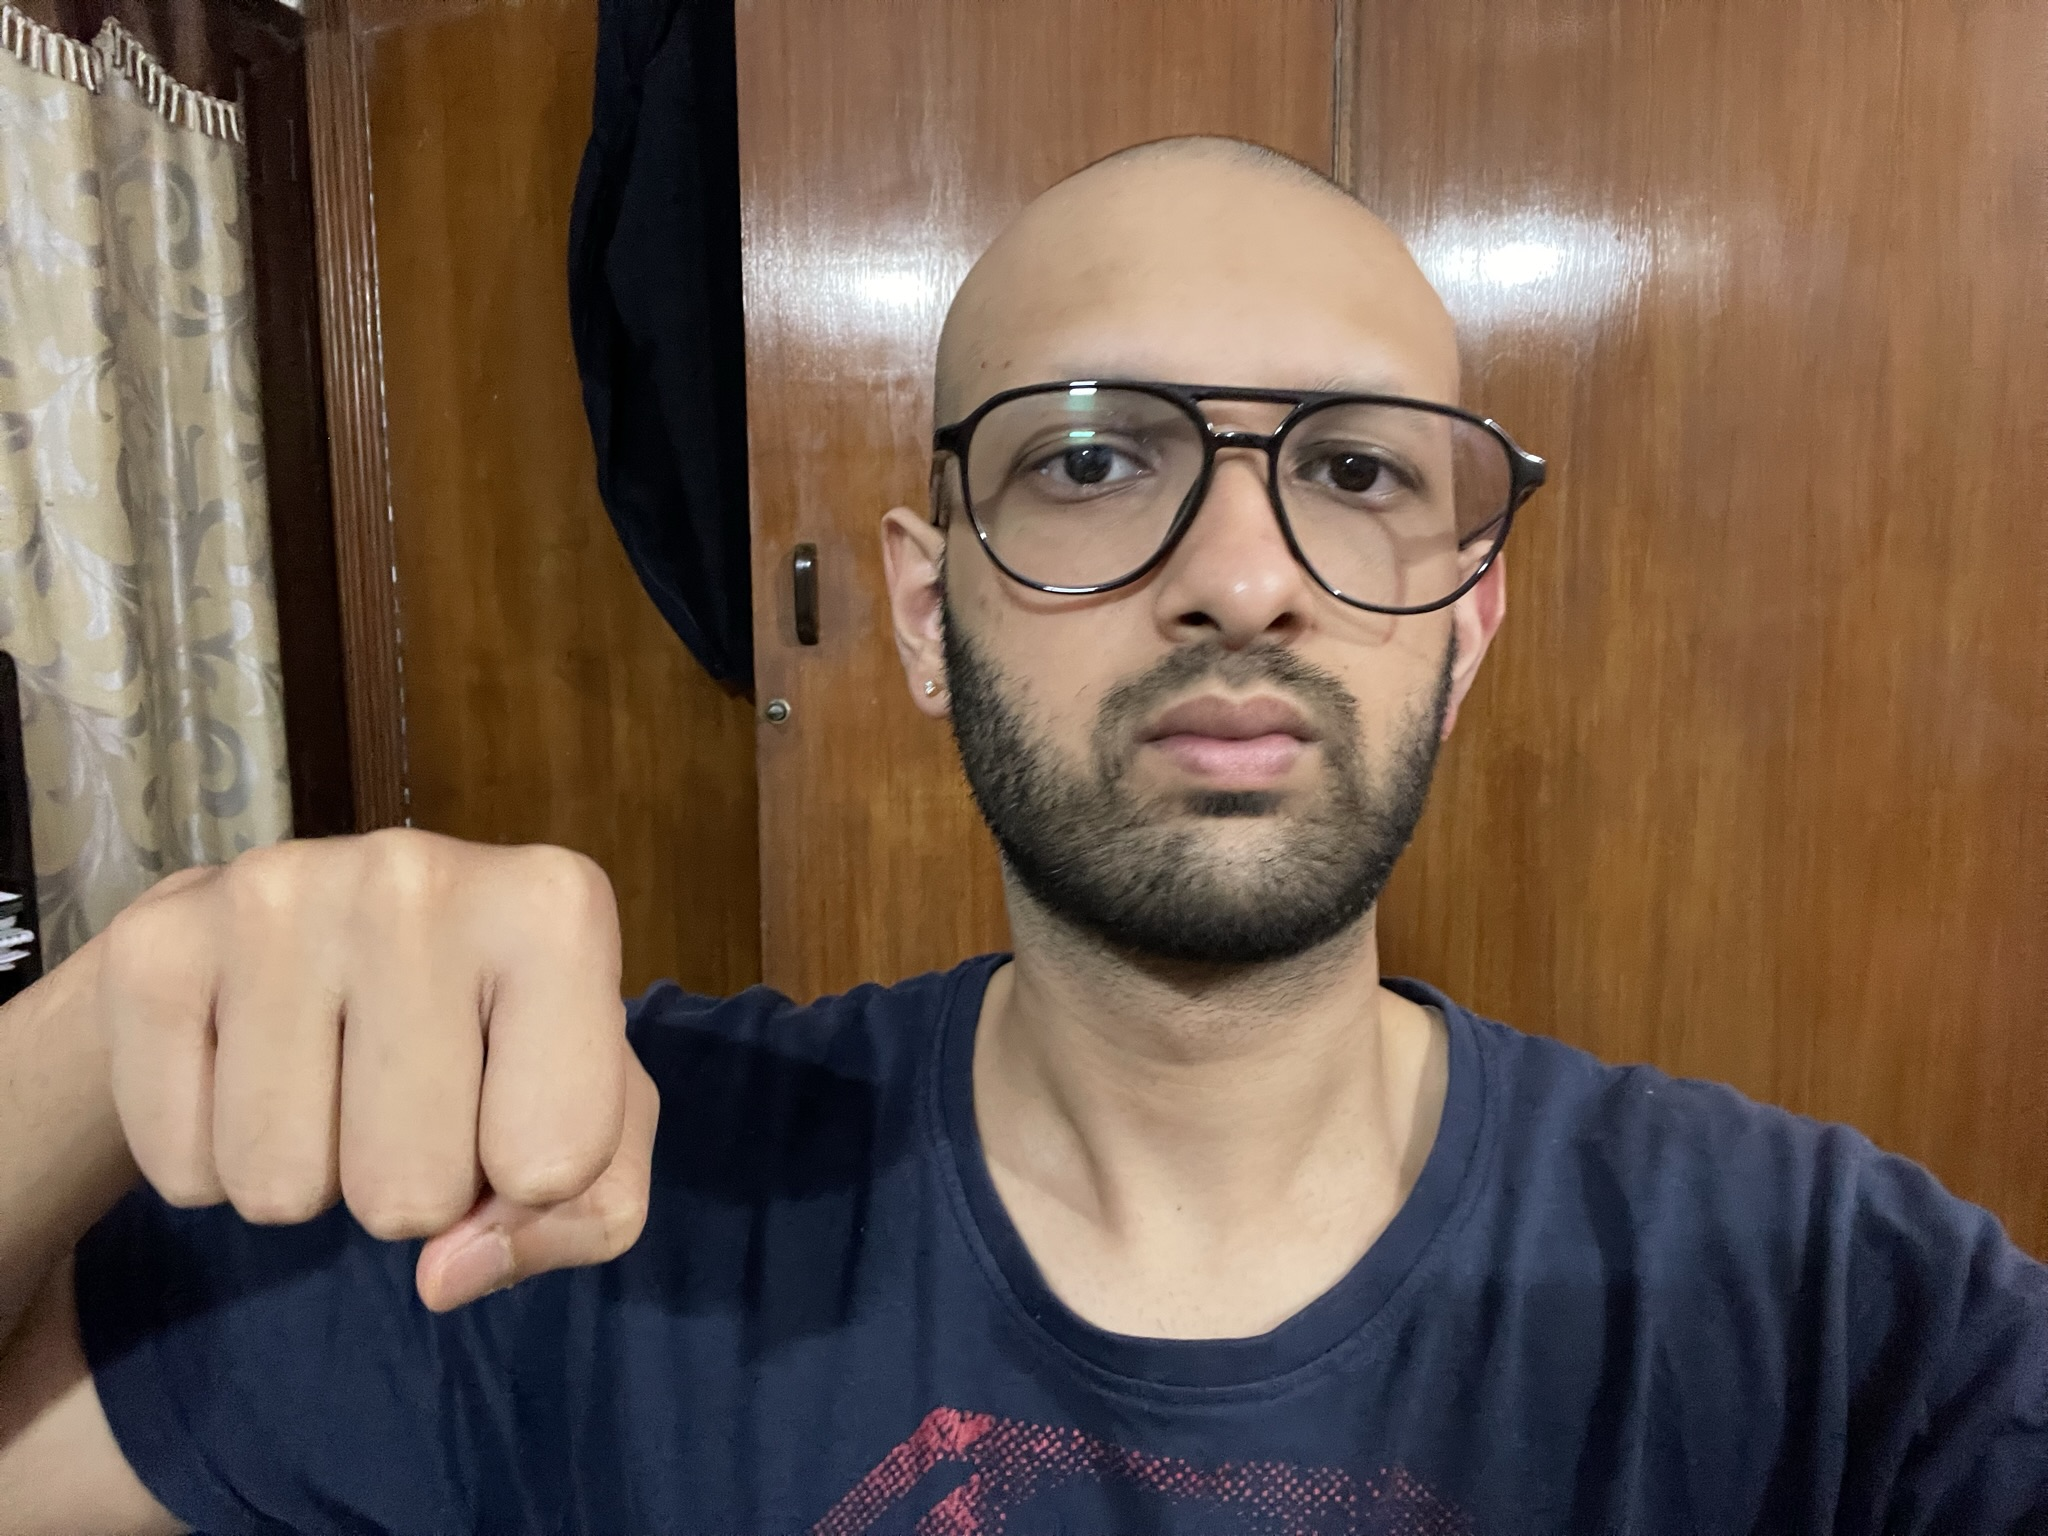Yes: (103, 828, 674, 1312)
